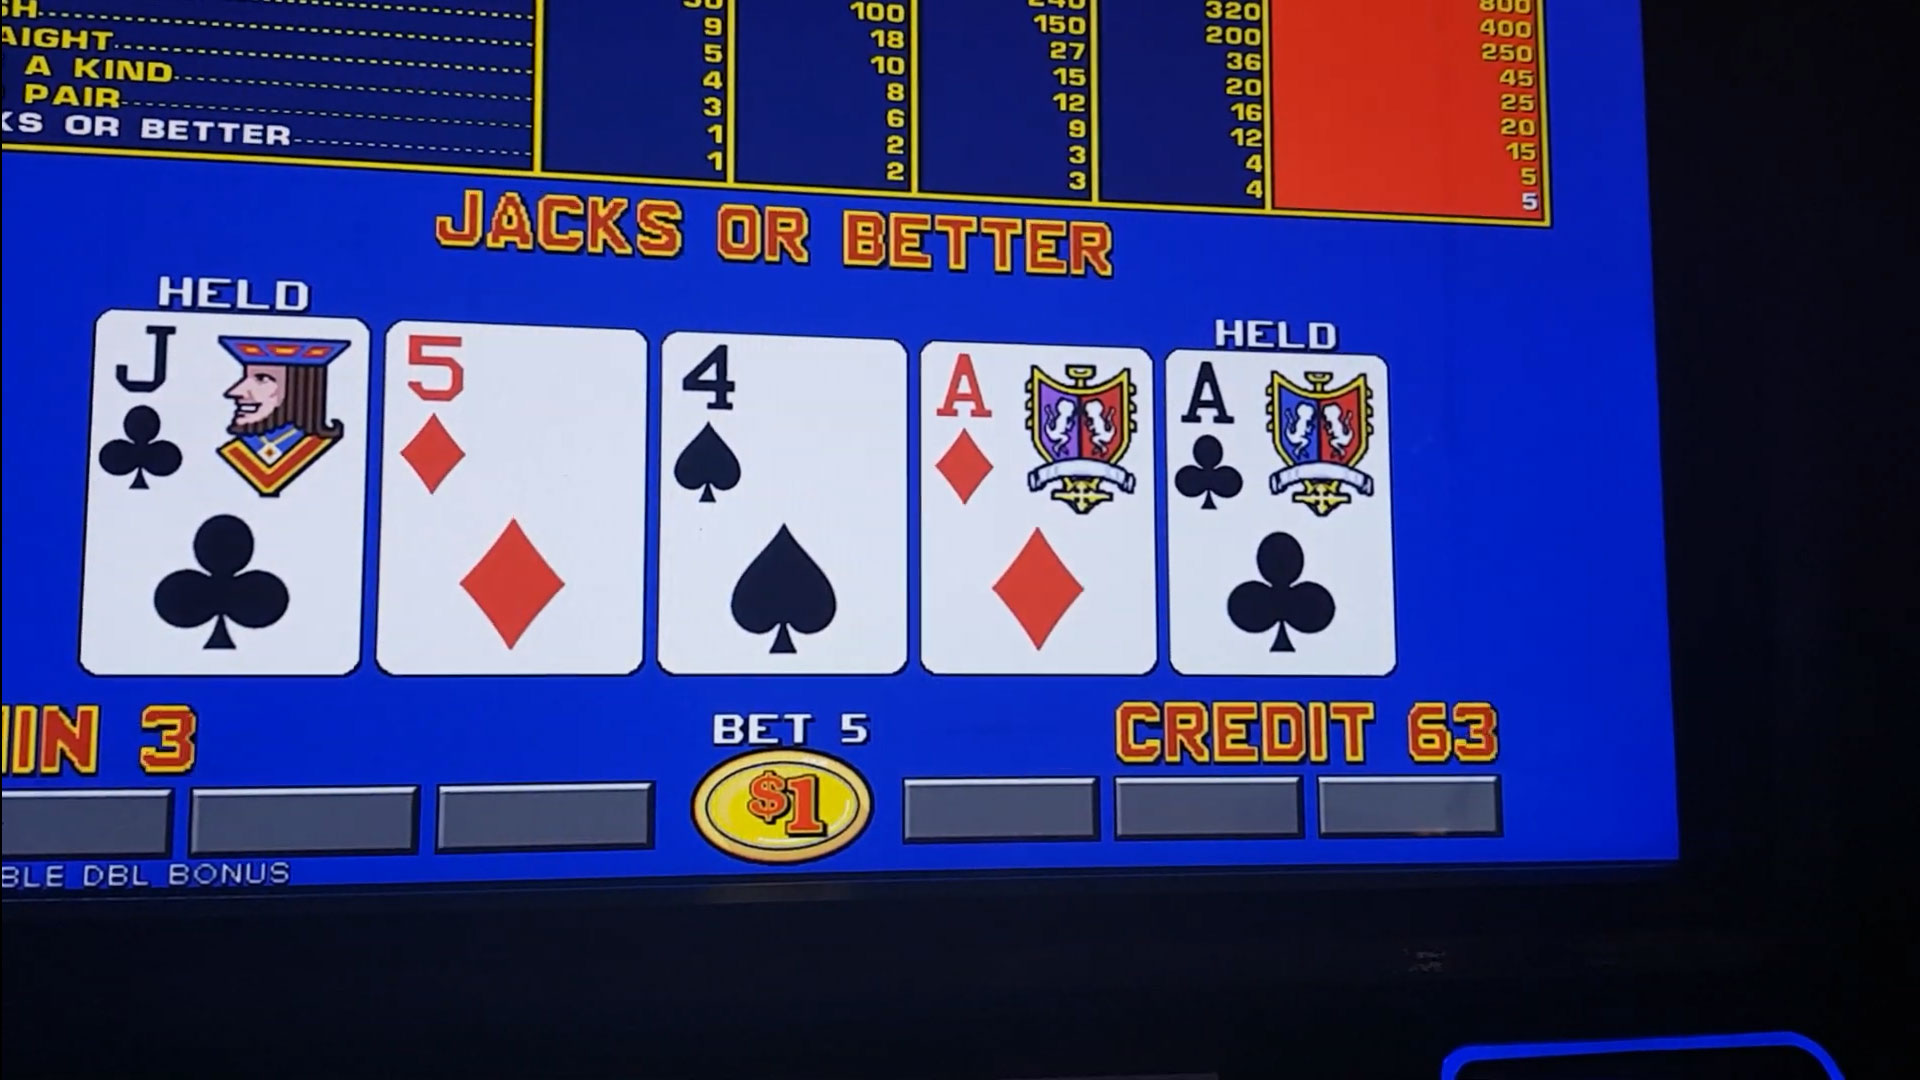CA: (1172, 360, 1385, 524)
CJ: (107, 320, 360, 498)
D5: (386, 334, 640, 516)
DA: (924, 353, 1146, 521)
S4: (665, 342, 905, 524)
